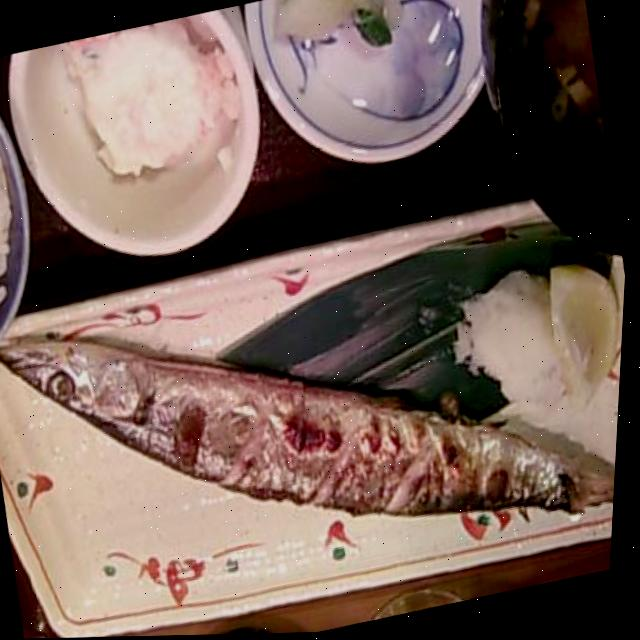熟制海鲜: (0, 214, 631, 640)
